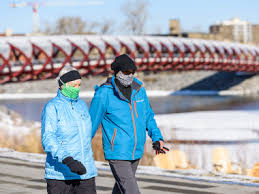mask: (110, 51, 136, 86), (58, 72, 81, 102)
